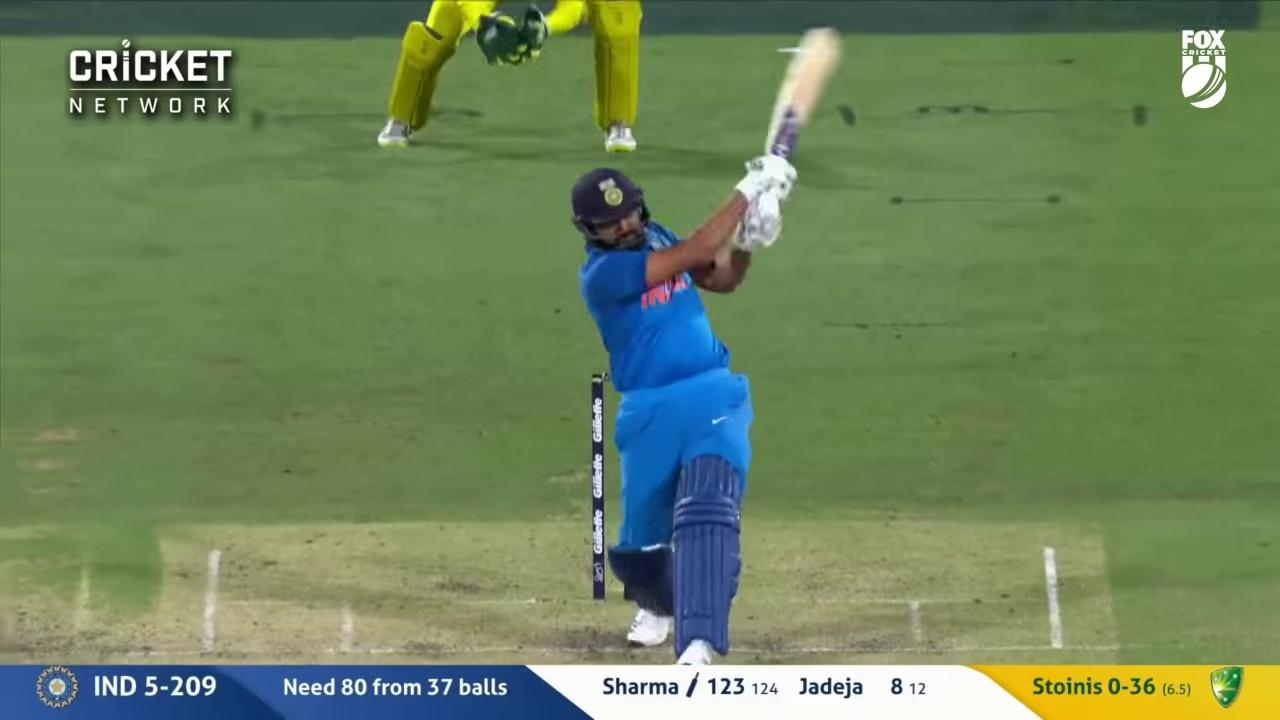batsman: (568, 29, 849, 666)
